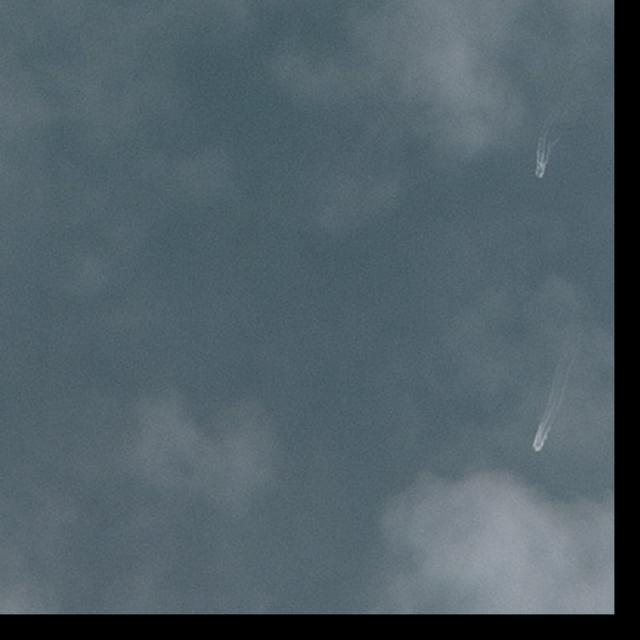ship: (534, 166, 546, 179), (534, 438, 544, 450)
